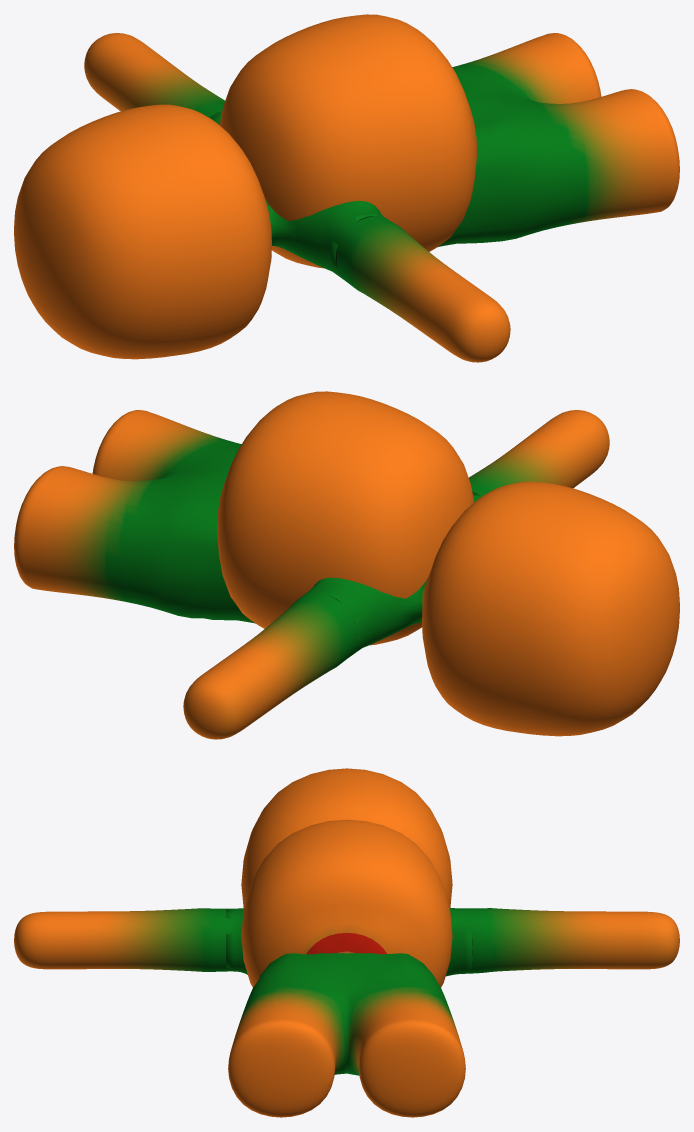
Rendered from Corpse.fbx.
3 renders of one model, top to bottom at view 1: azimuth 30°, elevation 25°; view 2: azimuth 150°, elevation 25°; view 3: azimuth 270°, elevation 25°, orthographic. The views are drawn at different scales.
Parts seen in each view (by area): view 1: Corpse, Head; view 2: Corpse, Head; view 3: Corpse, Head.
Boxes of the visible parts, bbox=[...] form: Corpse: bbox=[14, 33, 679, 362]; Head: bbox=[220, 14, 476, 268]; Corpse: bbox=[14, 410, 679, 739]; Head: bbox=[217, 391, 473, 645]; Corpse: bbox=[14, 768, 679, 1117]; Head: bbox=[241, 819, 452, 987].
Bounding box in the file's own units: 114 × 49.42 × 132.
